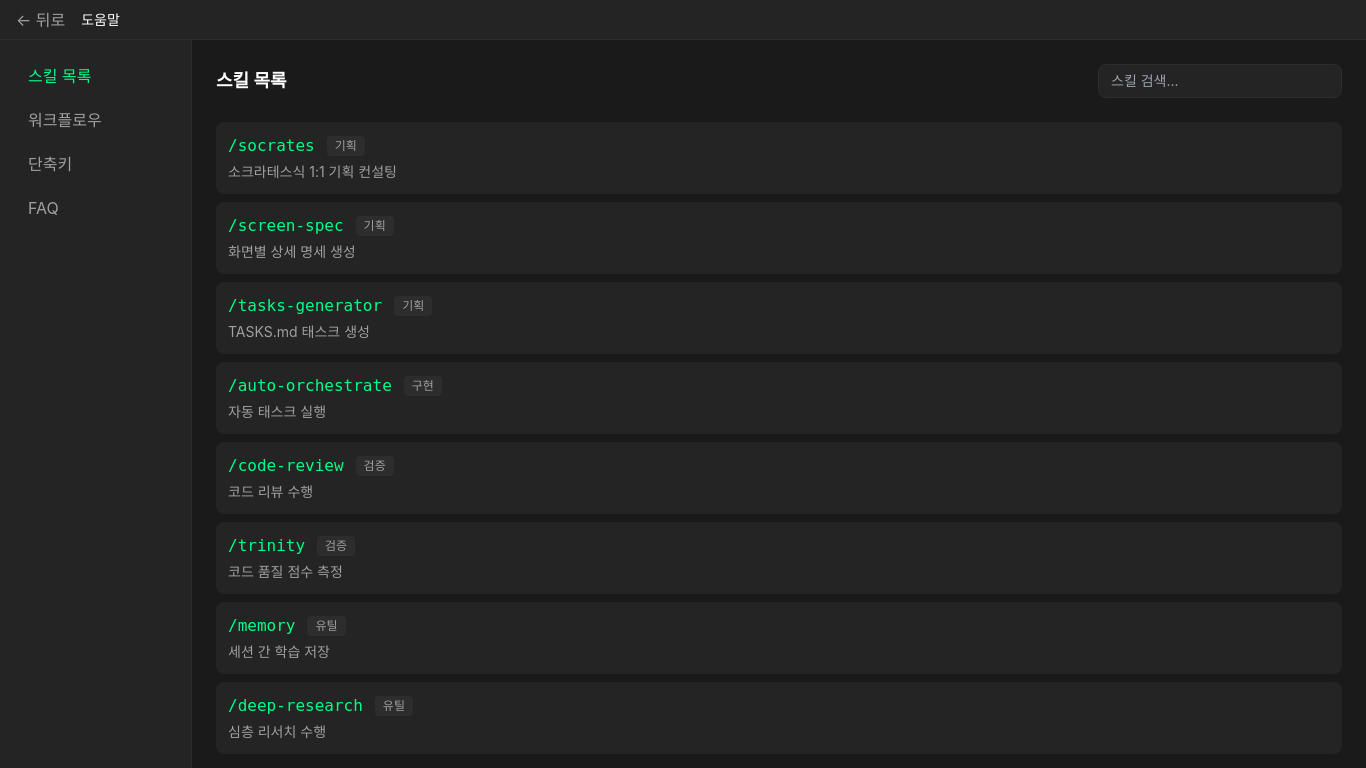
HelpPage › 2. 탭 전환 › should switch to workflow tab when clicked
Click the button "워크플로우": (96, 120) [16,100,175,140]
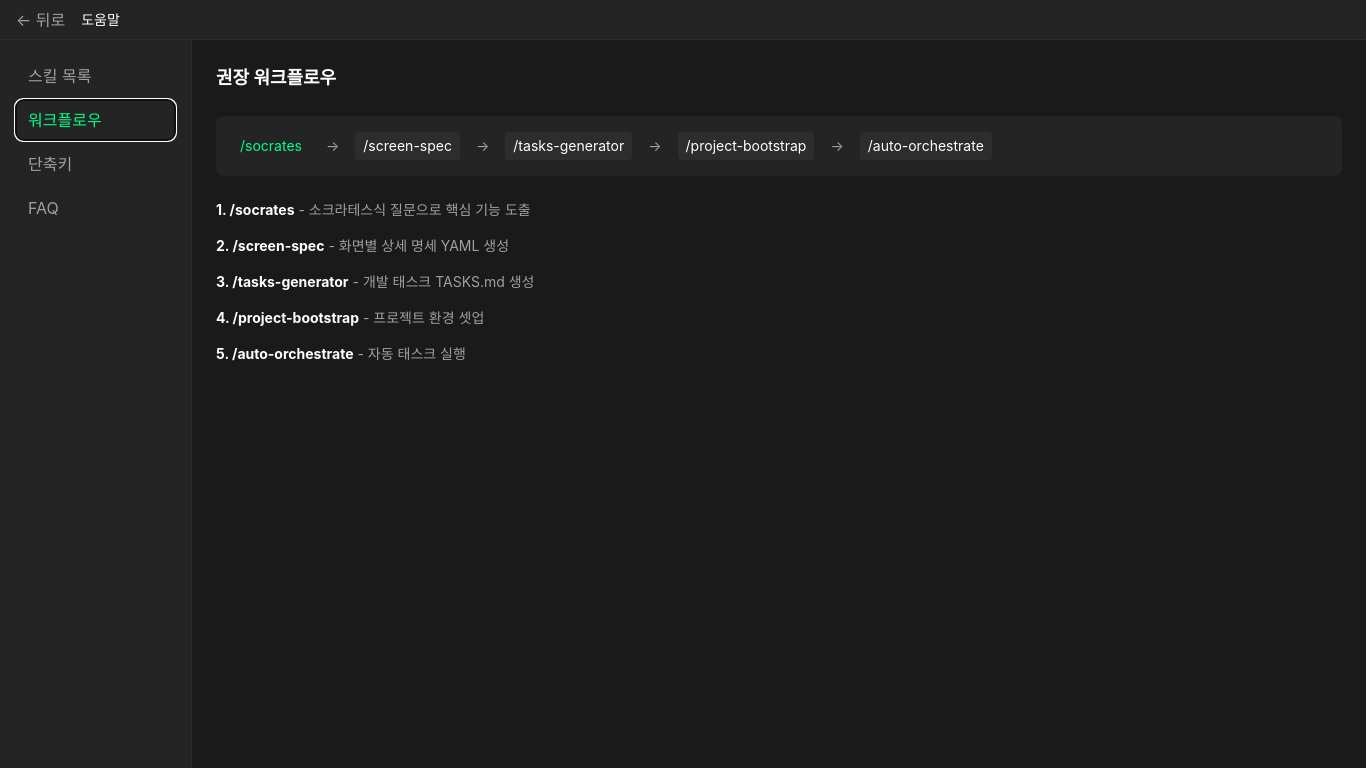
Result: the heading "권장 워크플로우" is shown at [216,67,336,88]
Result: the text "/socrates" is shown at [240,137,302,154]
